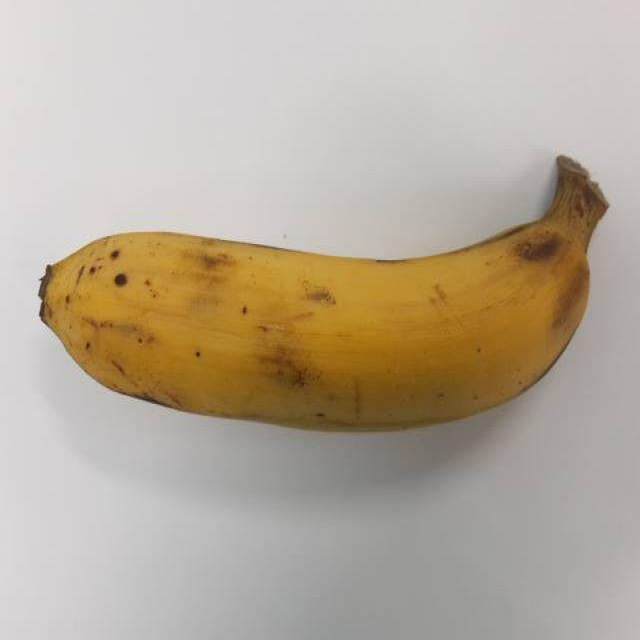Banana: (36, 148, 606, 428)
